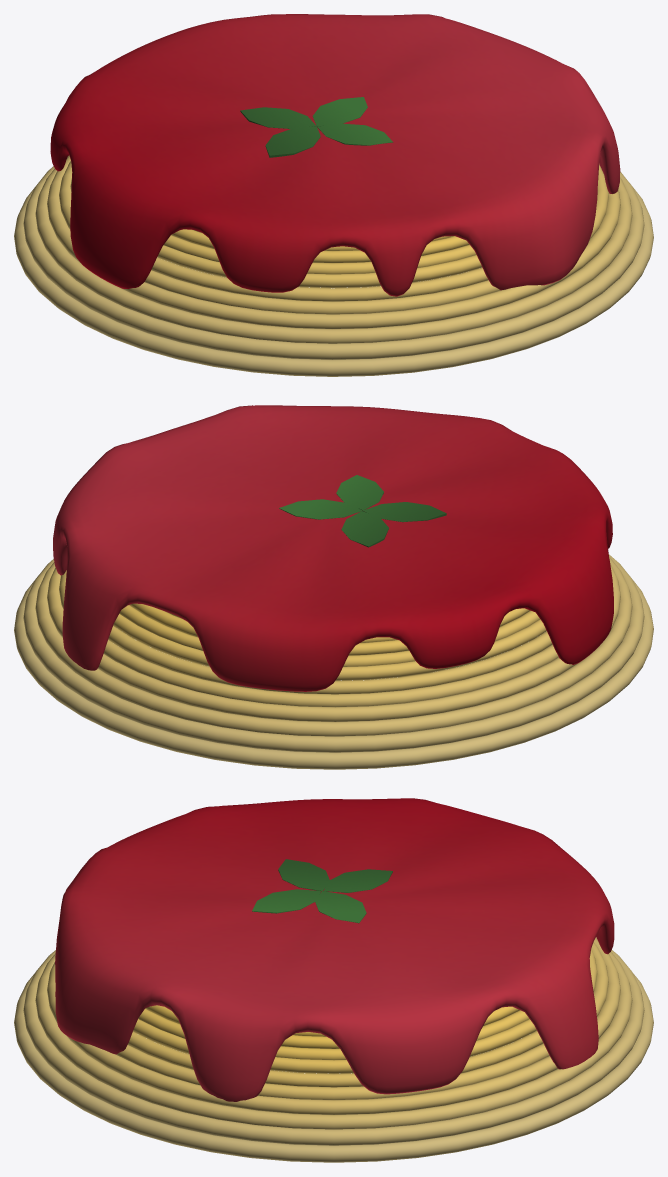
Rendered from SpagBol.glb.
The picture shows the model from 3 angles, top to bottom: view 1: azimuth 30°, elevation 25°; view 2: azimuth 150°, elevation 25°; view 3: azimuth 270°, elevation 25°; orthographic projection.
Visible parts, largest first — view 1: SpagBol; view 2: SpagBol; view 3: SpagBol.
Part boxes in pixels (box(x1,y1,x2,y2)): SpagBol: box(14, 14, 653, 376); SpagBol: box(14, 405, 653, 769); SpagBol: box(14, 798, 653, 1162).
Size of the model in its own units: 0.397 by 0.0878 by 0.397.
Materials: 1 (1 with a texture image).
